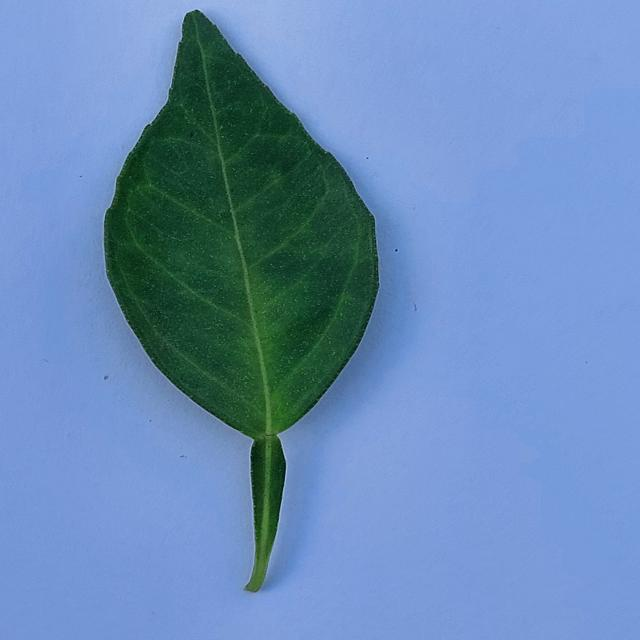greening: (104, 11, 378, 591)
